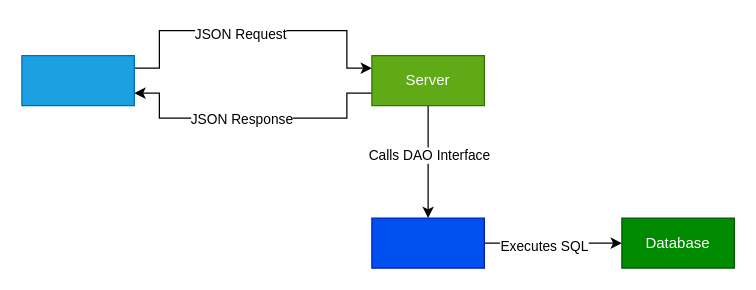
This 756x290 diagram has some shape labels left out. The shapes that lost their labels are listed below. From the top down, each one's centre as x and y in pixels, then its label:
At (77,80): "Client".
At (427,242): "DAO".
